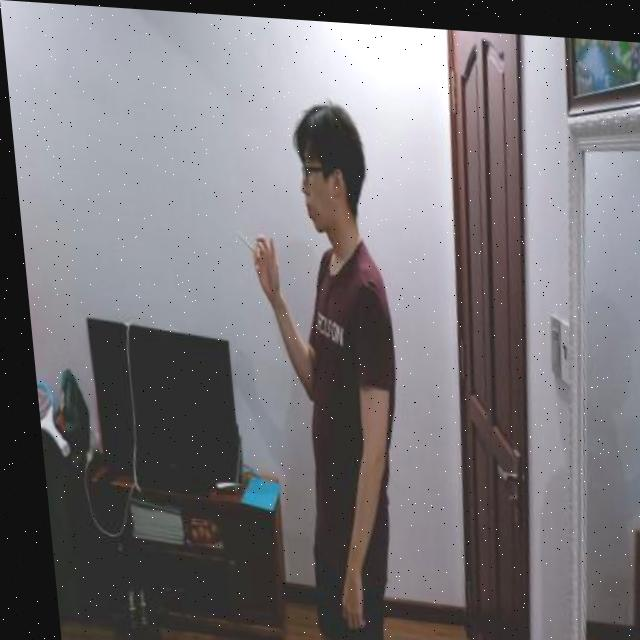cigarette: (233, 228, 251, 252)
